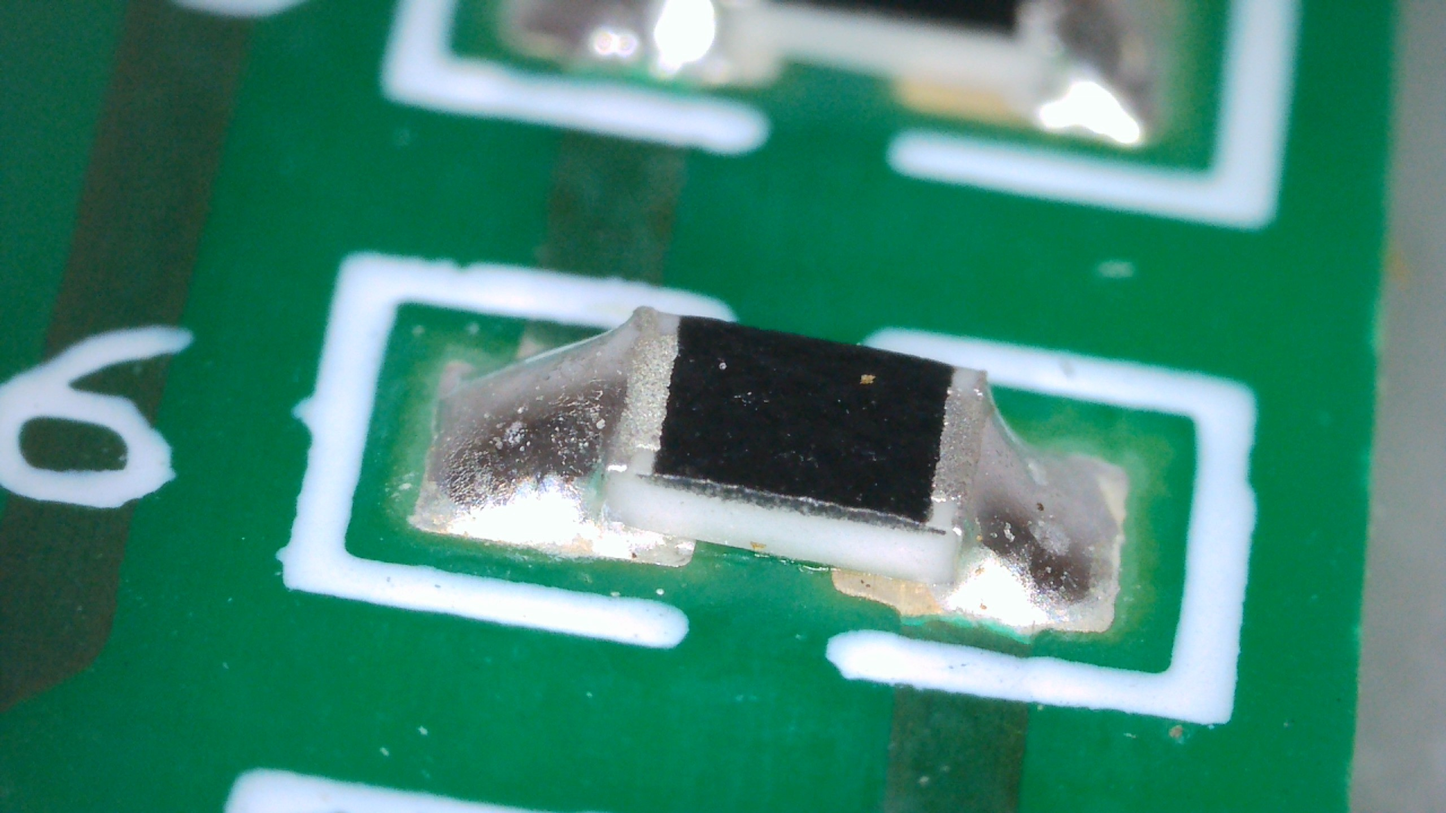OK: (423, 308, 682, 554), (924, 365, 1128, 638)
